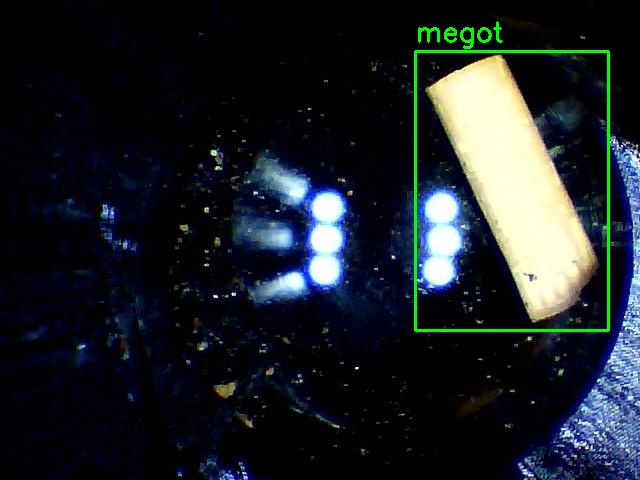megot: (415, 51, 608, 330)
